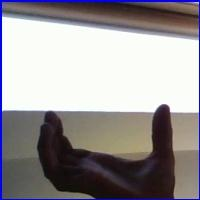space: (24, 97, 189, 193)
